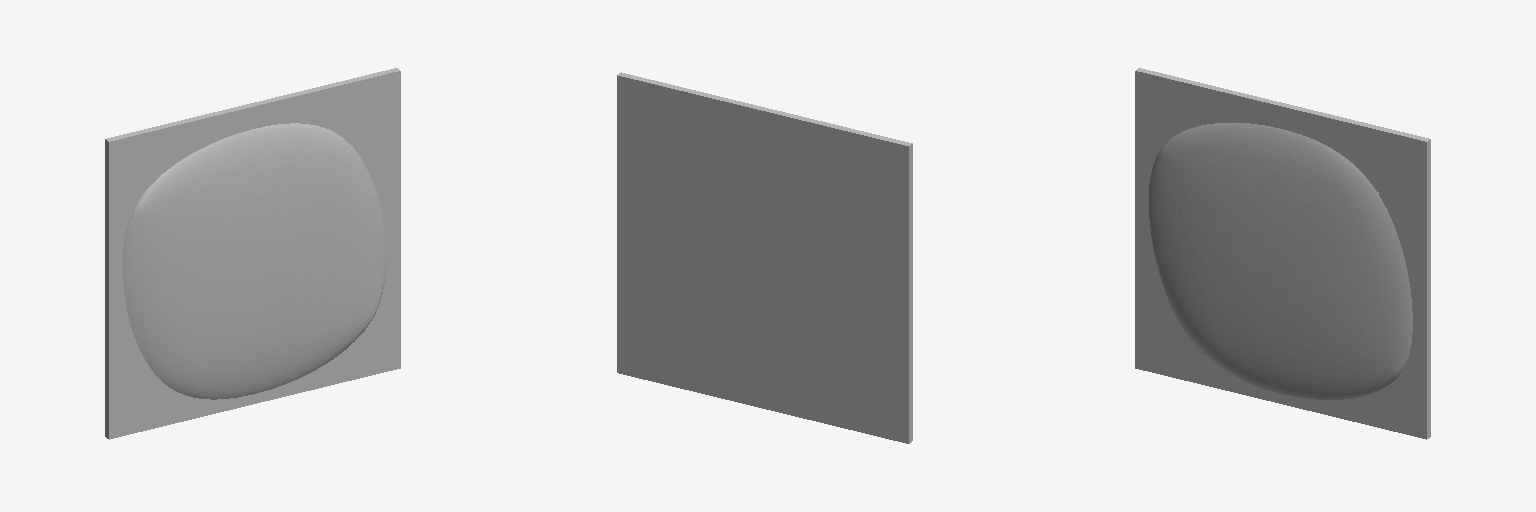
The model's file is soft_ground_v2.obj.
The picture shows the model from 3 angles: view 1: azimuth 30°, elevation 25°; view 2: azimuth 150°, elevation 25°; view 3: azimuth 330°, elevation 25°; orthographic projection.
Parts seen in each view (by area): view 1: Object.1; view 2: Object.1; view 3: Object.1.
Part boxes in pixels (bbox=[...]): Object.1: bbox=[105, 68, 400, 439]; Object.1: bbox=[617, 72, 912, 443]; Object.1: bbox=[1135, 68, 1430, 439].
Bounding box in the file's own units: 334 × 326 × 20.29.